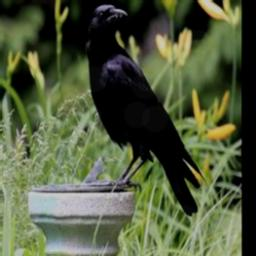Crow: (85, 2, 206, 217)
